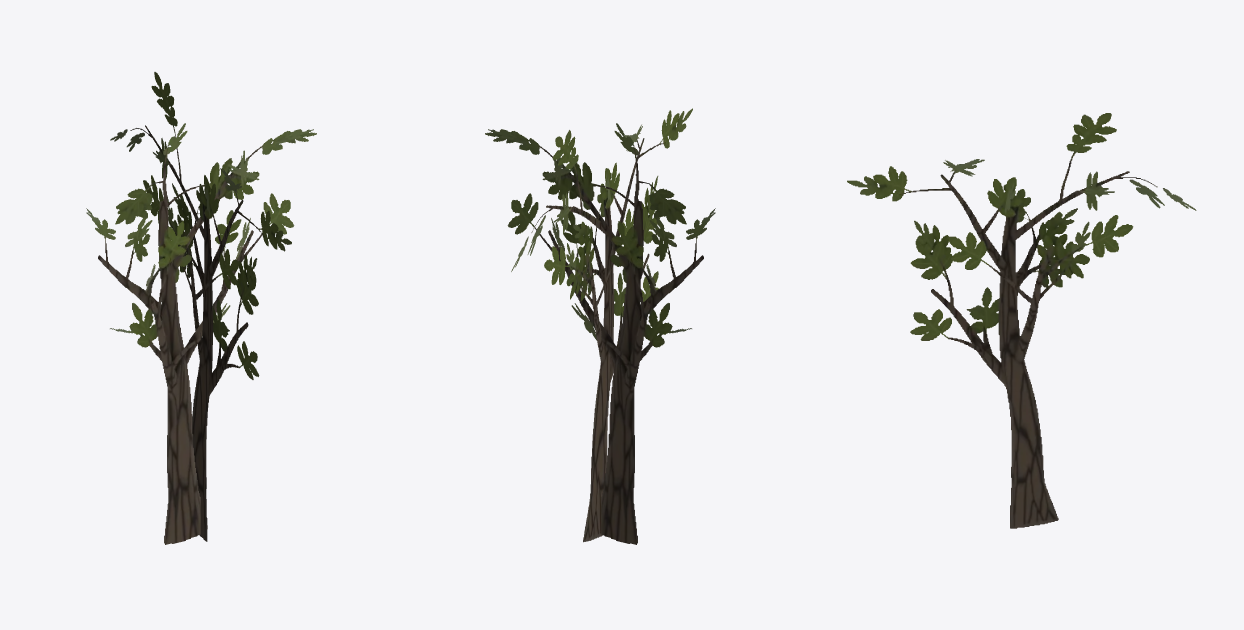
The model's file is kit_tree_lod2.glb.
The picture shows the model from 3 angles, left to right: view 1: azimuth 30°, elevation 25°; view 2: azimuth 150°, elevation 25°; view 3: azimuth 270°, elevation 25°; orthographic projection. The views are drawn at different scales.
Parts seen in each view (by area): view 1: kit_tree_impostor; view 2: kit_tree_impostor; view 3: kit_tree_impostor.
Part boxes in pixels (x1,y1,x2,y2): kit_tree_impostor: (86, 72, 316, 544); kit_tree_impostor: (485, 108, 715, 544); kit_tree_impostor: (847, 113, 1196, 528).
Size of the model in its own units: 3.82 by 4.35 by 3.82.
1 material, 1 textured.
